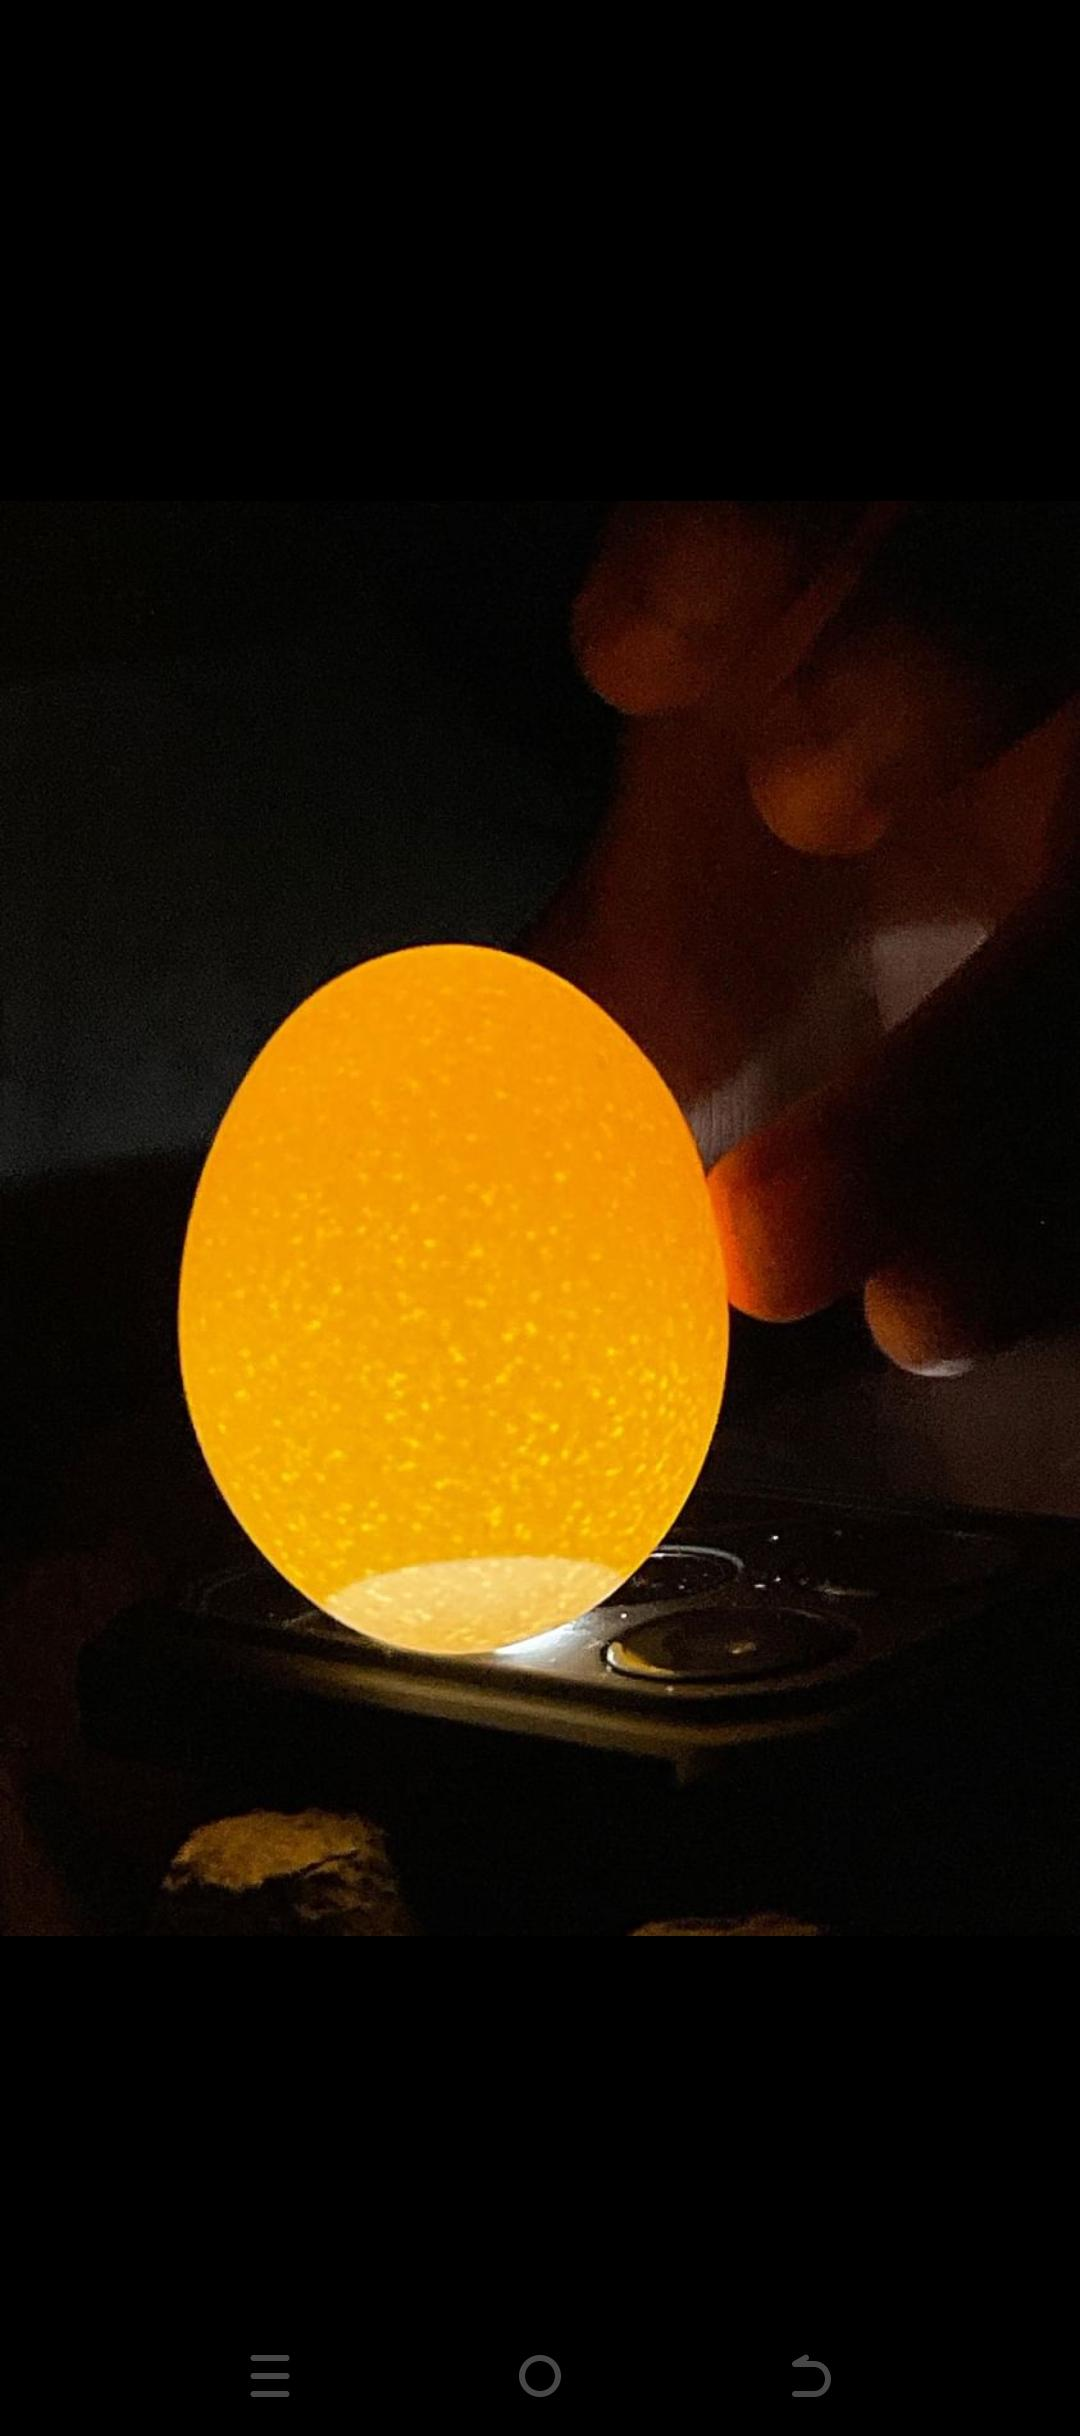A - Good: (163, 917, 737, 1723)
